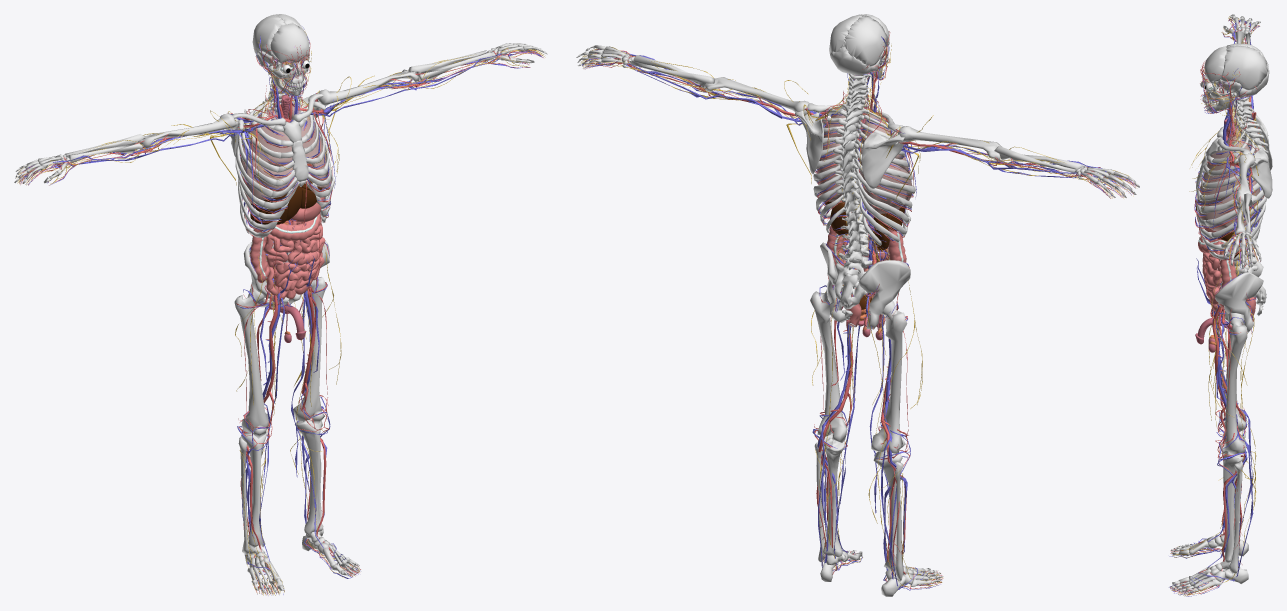
Rendered from cothe.fbx.
3 renders of one model, left to right at view 1: azimuth 30°, elevation 25°; view 2: azimuth 150°, elevation 25°; view 3: azimuth 270°, elevation 25°, orthographic. The views are drawn at different scales.
Parts seen in each view (by area): view 1: Cabeza, Venas_Lowpoly, Arterias_LowPoly, Oesophagus_Generated_Mesh_From_X3D.001, Medulla_oblongata.l_grp1.001, Exterior Pulmones; view 2: Cabeza, Venas_Lowpoly, Arterias_LowPoly, Medulla_oblongata.l_grp1.001, Exterior Pulmones, Oesophagus_Generated_Mesh_From_X3D.001, Ureter.l_grp1.001; view 3: Cabeza, Venas_Lowpoly, Arterias_LowPoly, Medulla_oblongata.l_grp1.001, Exterior Pulmones, Oesophagus_Generated_Mesh_From_X3D.001, Ductus_deferens.l_BezierCurve.001.
Boxes of the visible parts, x1=… form: Cabeza: x1=14, y1=14, x2=547, y2=593; Venas_Lowpoly: x1=19, y1=26, x2=542, y2=595; Arterias_LowPoly: x1=19, y1=40, x2=543, y2=593; Oesophagus_Generated_Mesh_From_X3D.001: x1=249, y1=95, x2=325, y2=300; Medulla_oblongata.l_grp1.001: x1=17, y1=31, x2=545, y2=595; Exterior Pulmones: x1=240, y1=105, x2=332, y2=203; Cabeza: x1=576, y1=14, x2=1139, y2=596; Venas_Lowpoly: x1=582, y1=36, x2=1135, y2=590; Arterias_LowPoly: x1=583, y1=31, x2=1136, y2=588; Medulla_oblongata.l_grp1.001: x1=581, y1=42, x2=1135, y2=586; Exterior Pulmones: x1=817, y1=109, x2=912, y2=213; Oesophagus_Generated_Mesh_From_X3D.001: x1=827, y1=107, x2=906, y2=327; Ureter.l_grp1.001: x1=830, y1=202, x2=889, y2=314; Cabeza: x1=1171, y1=14, x2=1272, y2=593; Venas_Lowpoly: x1=1169, y1=19, x2=1261, y2=596; Arterias_LowPoly: x1=1170, y1=18, x2=1264, y2=595; Medulla_oblongata.l_grp1.001: x1=1171, y1=16, x2=1265, y2=596; Exterior Pulmones: x1=1197, y1=127, x2=1259, y2=232; Oesophagus_Generated_Mesh_From_X3D.001: x1=1196, y1=118, x2=1255, y2=322; Ductus_deferens.l_BezierCurve.001: x1=1195, y1=309, x2=1232, y2=352.
Size of the model in its own units: 187 by 183 by 32.79.
